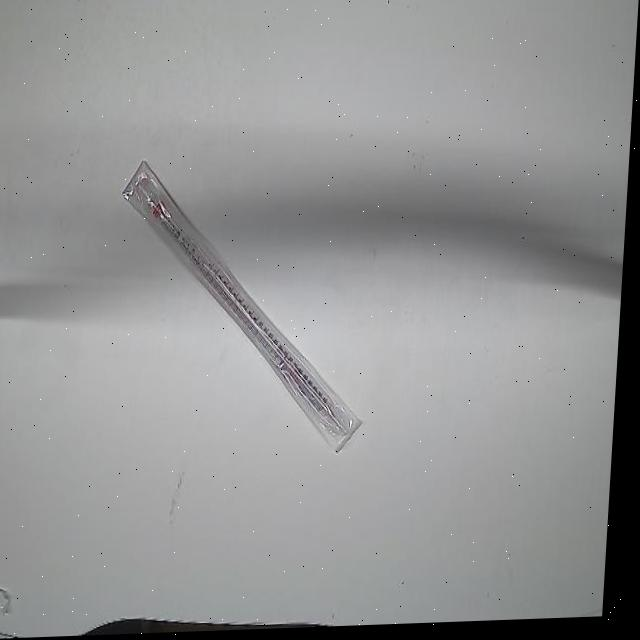Serelogical Pipet 25 mL - Sealed: (109, 154, 388, 469)
